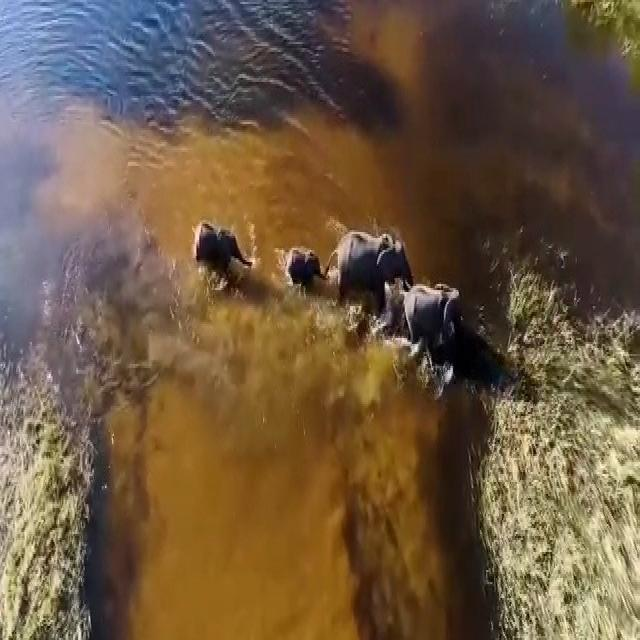Elephant: (339, 220, 411, 317), (404, 276, 464, 364), (190, 209, 254, 282), (281, 242, 326, 288)
